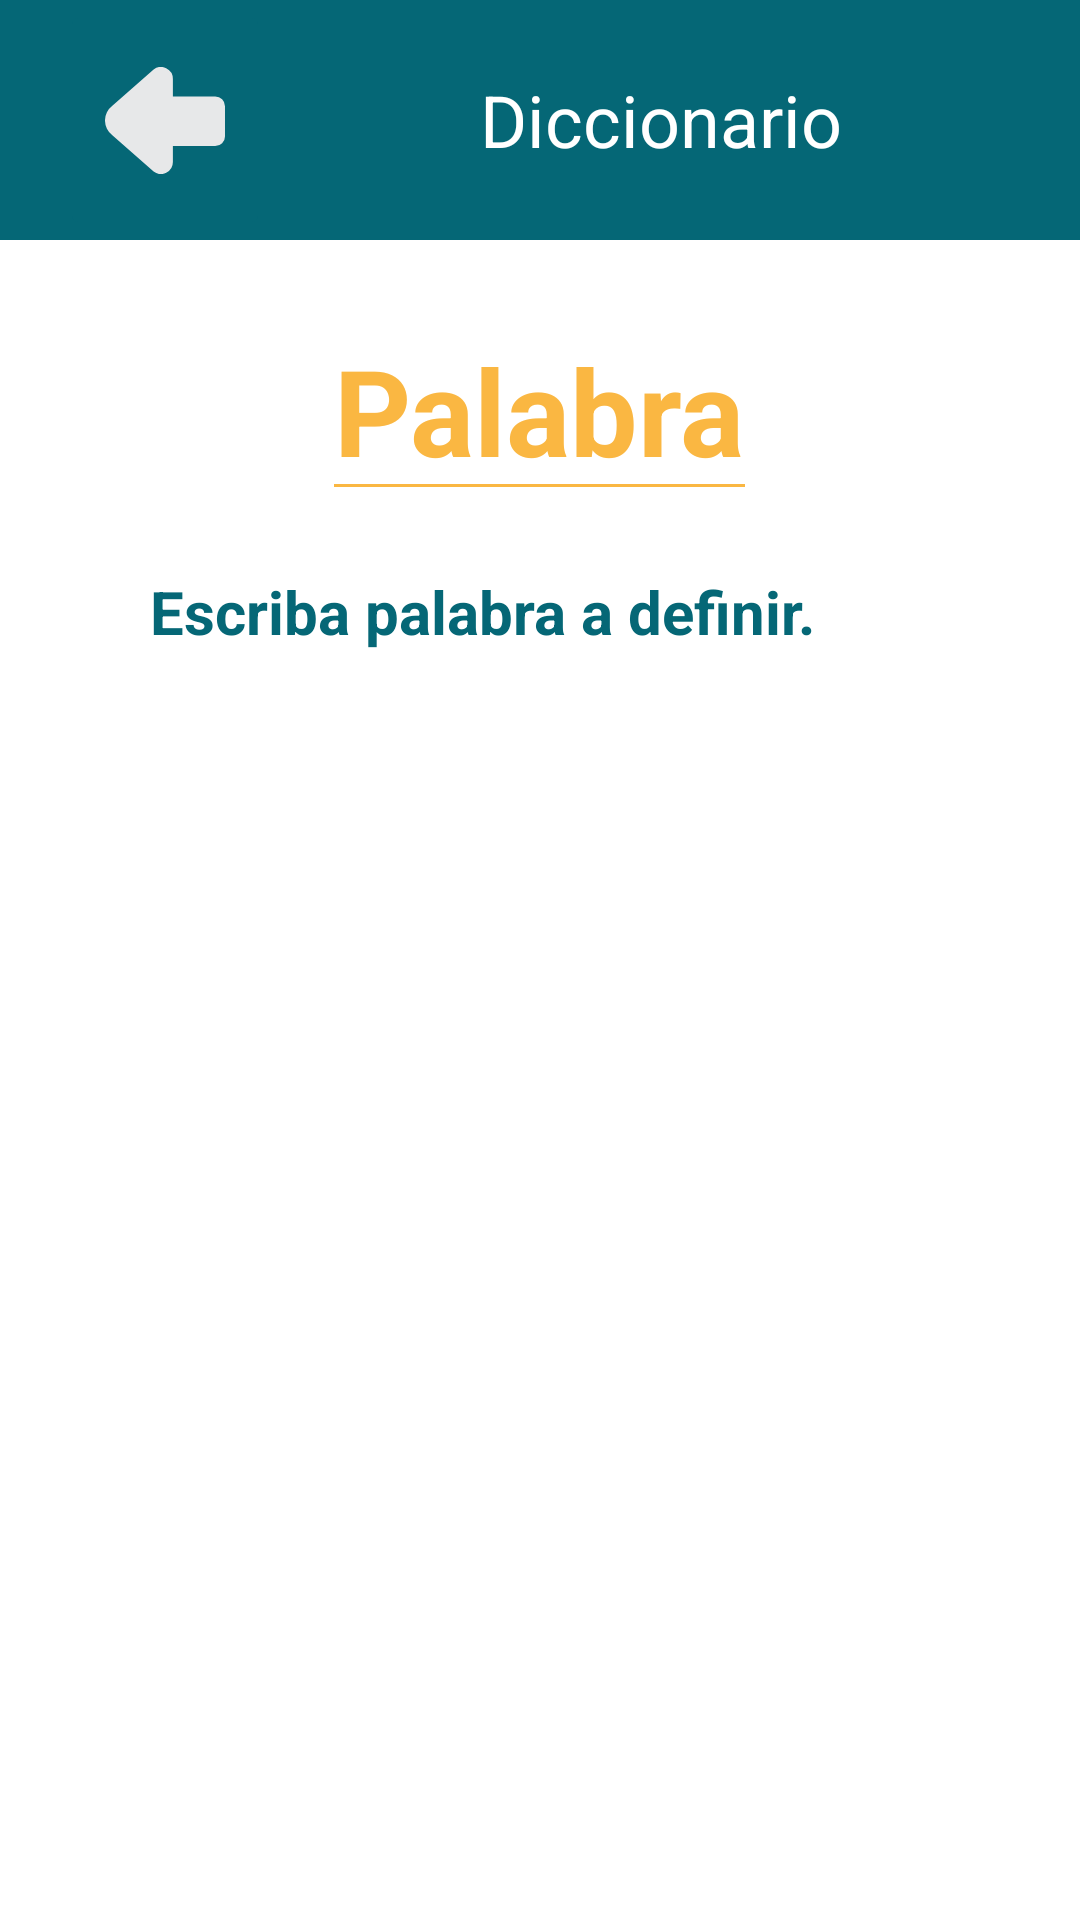

Where icons sit on this 1080 x 1920 app screen, as [x1=x1, y1=y1, x2=x2, y2=y2]:
flechaatras: [x1=105, y1=67, x2=225, y2=174]
